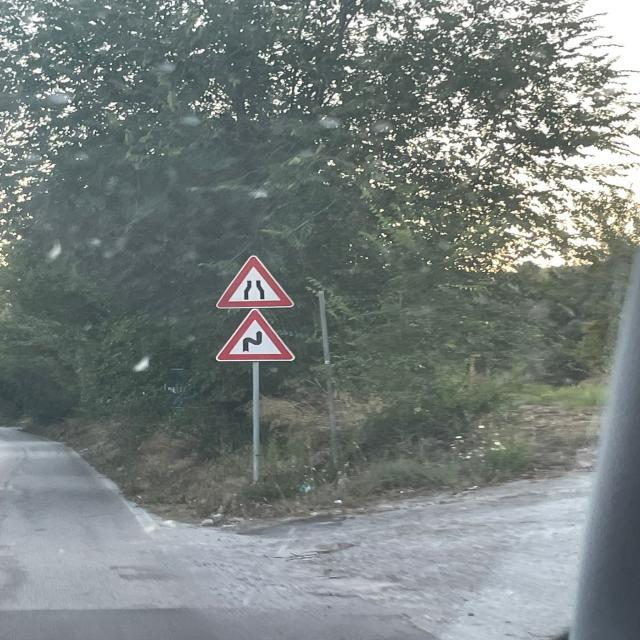warn_double_curve: (214, 308, 297, 362)
